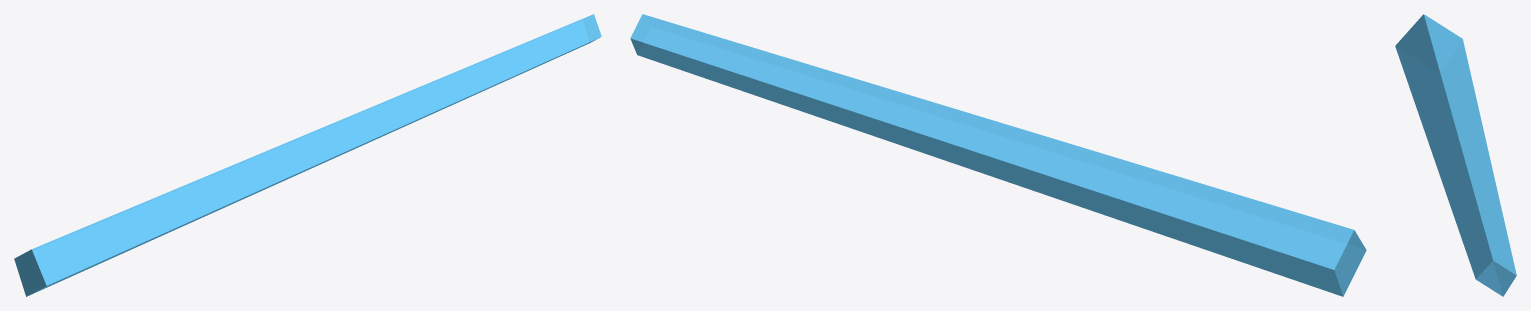
Rendered from Event_420094457_HErechit_60.fbx.
3 views of the same model, side by side, from view 1: azimuth 30°, elevation 25°; view 2: azimuth 150°, elevation 25°; view 3: azimuth 270°, elevation 25° (orthographic). The views are drawn at different scales.
Parts seen in each view (by area): view 1: Model; view 2: Model; view 3: Model.
Part boxes in pixels (x1,y1,x2,y2): Model: (14,14,601,296); Model: (630,14,1366,296); Model: (1395,14,1516,296).
Size of the model in its own units: 6.93 by 1.35 by 1.11.
